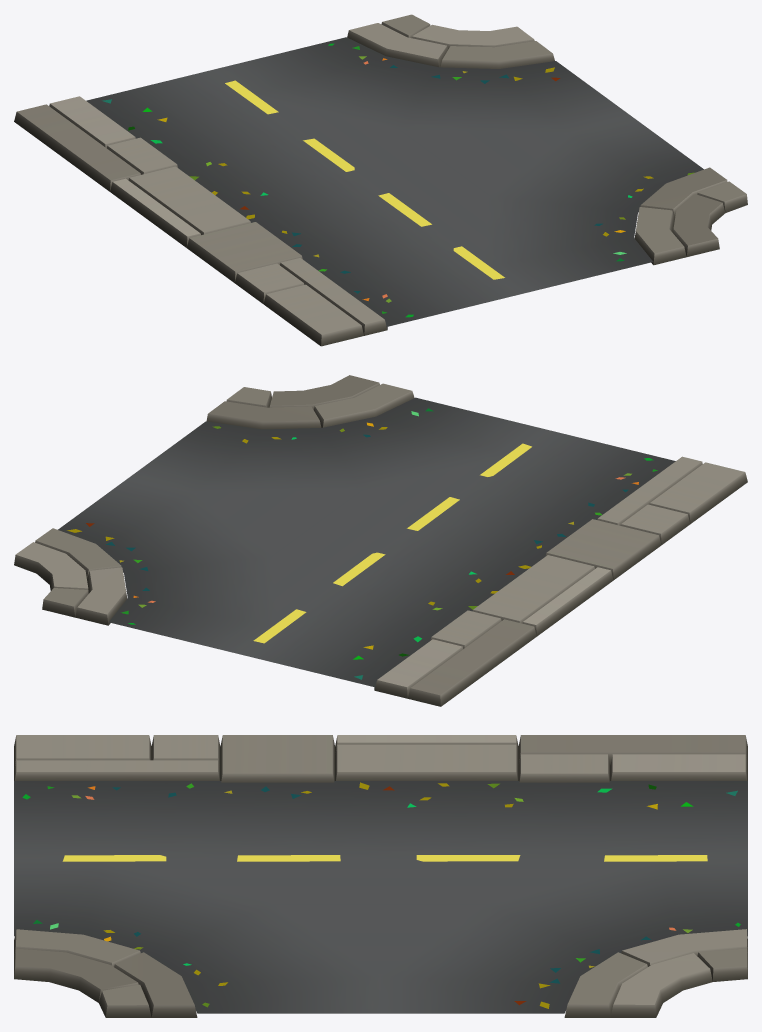
File: Country_Road_1E.fbx
3 views of the same model, one above another, from view 1: azimuth 30°, elevation 25°; view 2: azimuth 150°, elevation 25°; view 3: azimuth 270°, elevation 25° (orthographic). The views are drawn at different scales.
Parts seen in each view (by area): view 1: Country_Road_1E, Country_Road_1E_Leaves; view 2: Country_Road_1E, Country_Road_1E_Leaves; view 3: Country_Road_1E, Country_Road_1E_Leaves.
Boxes of the visible parts, <box> form: Country_Road_1E: <box>14,14,747,346</box>; Country_Road_1E_Leaves: <box>102,43,694,317</box>; Country_Road_1E: <box>14,375,747,706</box>; Country_Road_1E_Leaves: <box>67,408,657,679</box>; Country_Road_1E: <box>14,735,747,1017</box>; Country_Road_1E_Leaves: <box>22,782,740,1008</box>.
Size of the model in its own units: 1400 by 30 by 1600.
